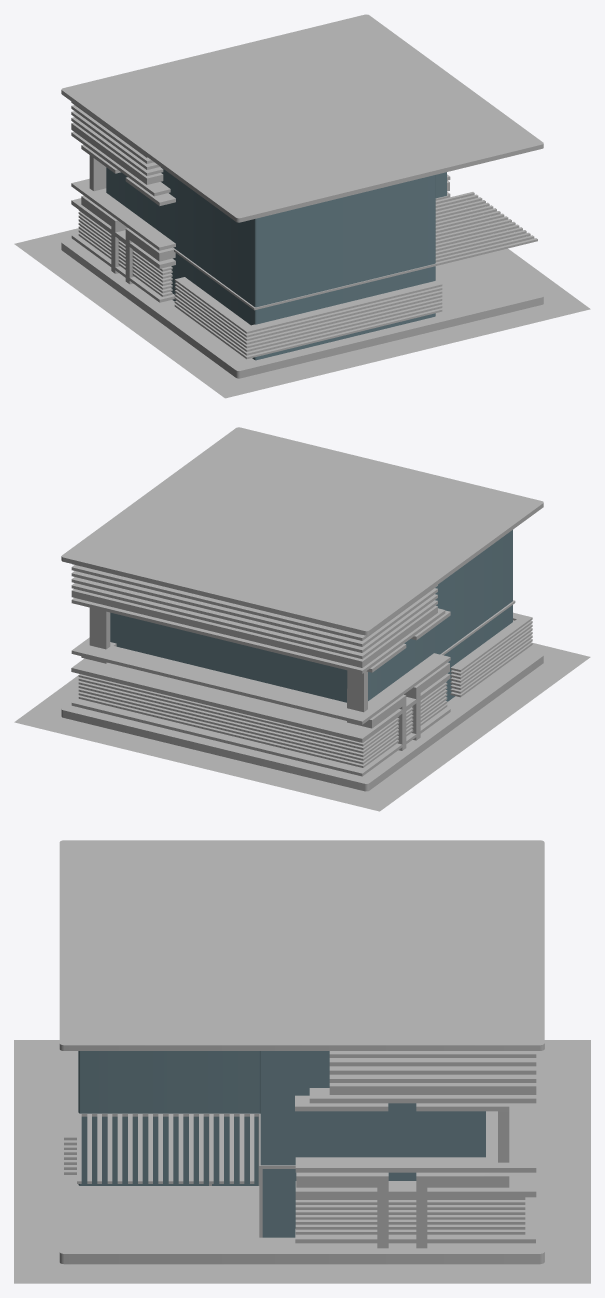
Rendered from SM_B_Mate_Base_01.fbx.
3 renders of one model, top to bottom at view 1: azimuth 30°, elevation 25°; view 2: azimuth 150°, elevation 25°; view 3: azimuth 270°, elevation 25°, orthographic. The views are drawn at different scales.
Visible parts, largest first — view 1: ground floor; view 2: ground floor; view 3: ground floor.
Part boxes in pixels (x1,y1,x2,y2): ground floor: [14, 14, 590, 398]; ground floor: [14, 427, 590, 811]; ground floor: [14, 840, 590, 1283].
Size of the model in its own units: 2500 by 1047 by 2500.
